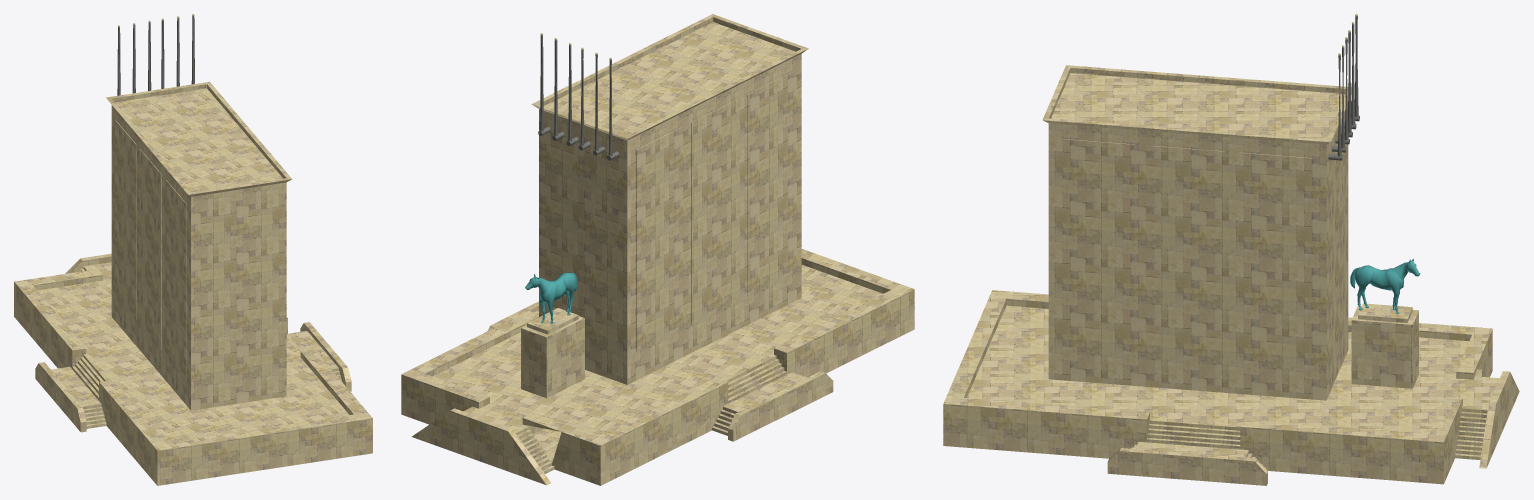
File: heroes.gltf
3 renders of one model, left to right at view 1: azimuth 30°, elevation 25°; view 2: azimuth 150°, elevation 25°; view 3: azimuth 270°, elevation 25°, orthographic. The views are drawn at different scales.
Parts seen in each view (by area): view 1: heroes; view 2: heroes; view 3: heroes.
Part boxes in pixels (bbox=[...]): heroes: bbox=[14, 14, 372, 485]; heroes: bbox=[401, 14, 914, 485]; heroes: bbox=[943, 14, 1519, 485].
Size of the model in its own units: 25.25 by 29.14 by 39.59.
Materials: 3 (2 with a texture image).
